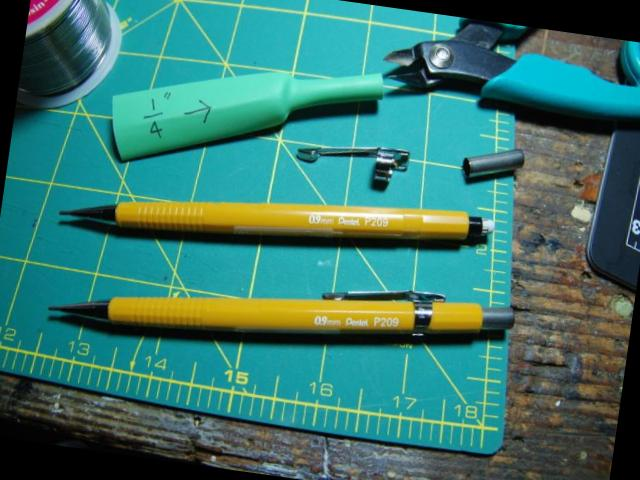PEN: (39, 279, 548, 344), (54, 195, 500, 242)
